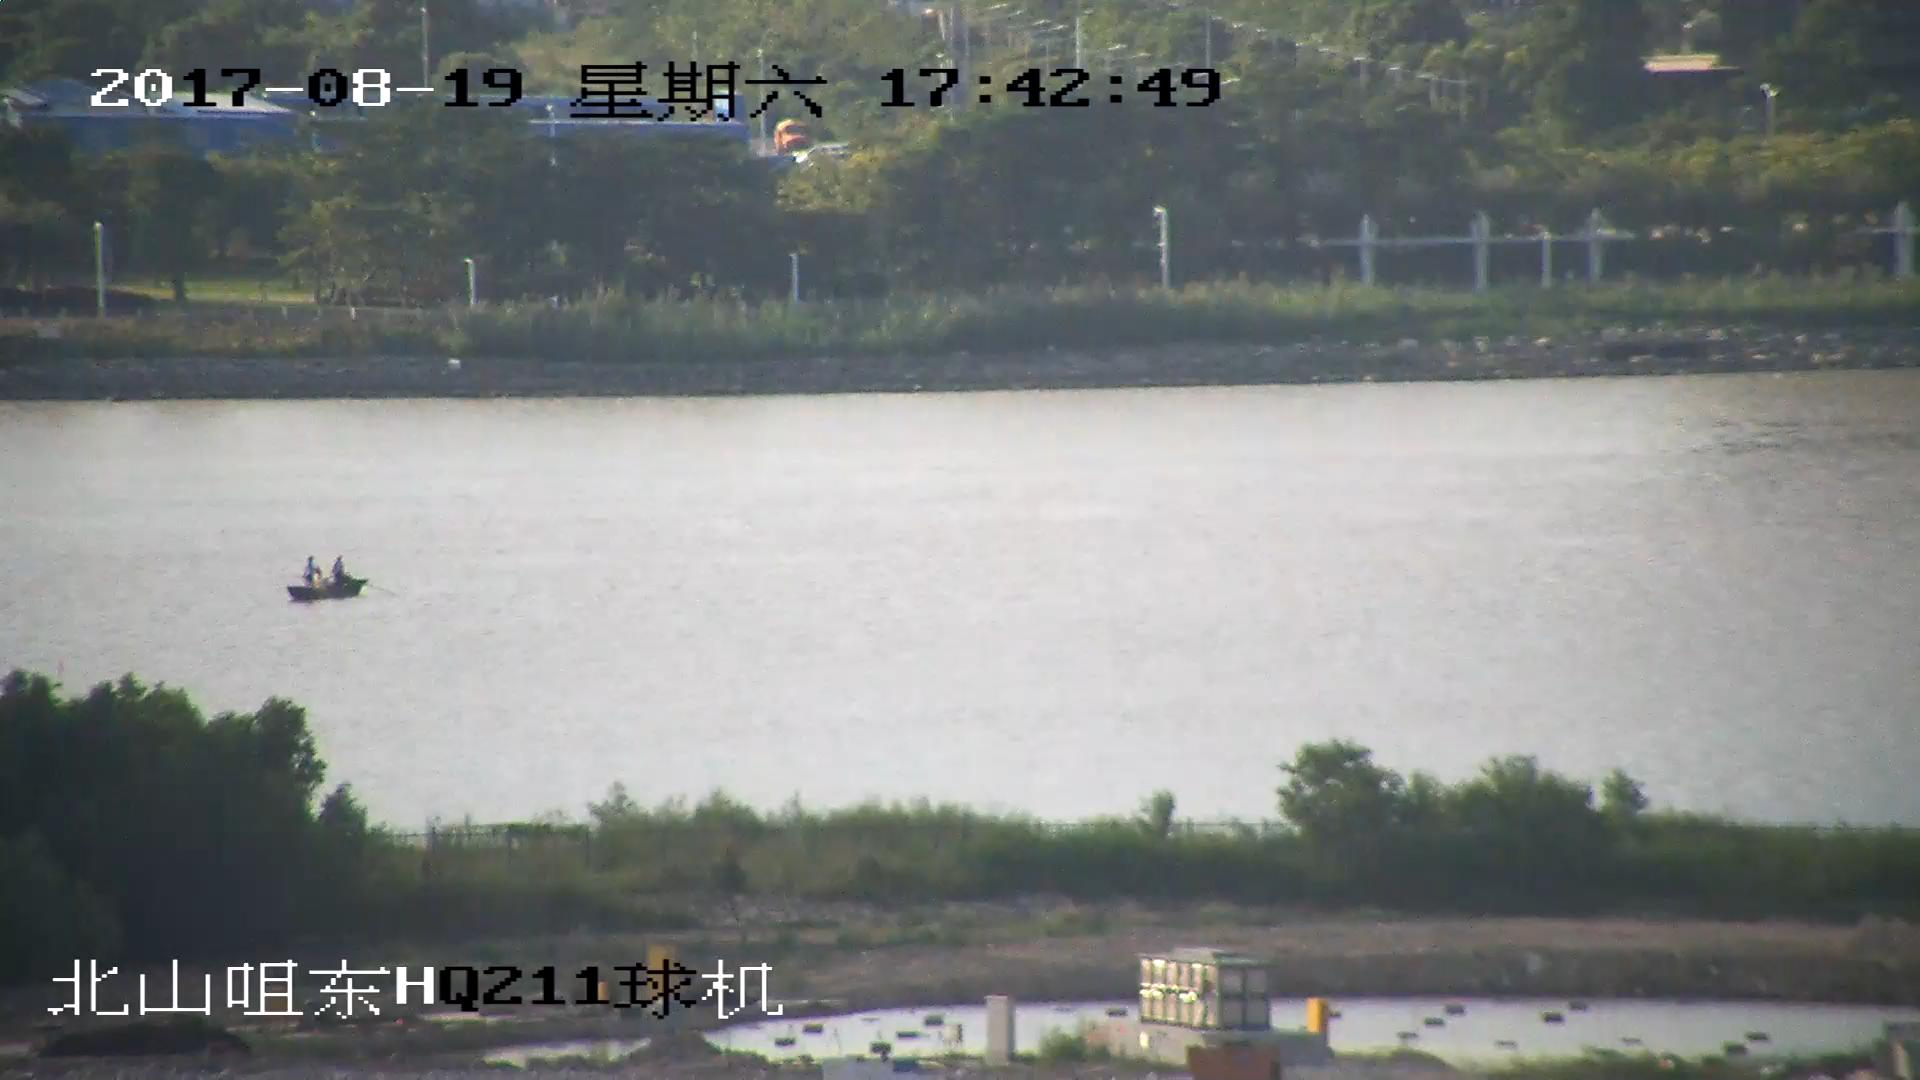fishing boat: (290, 558, 366, 601)
